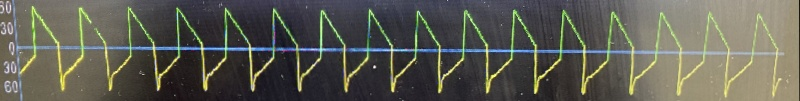peepi: (12, 1, 789, 99)
